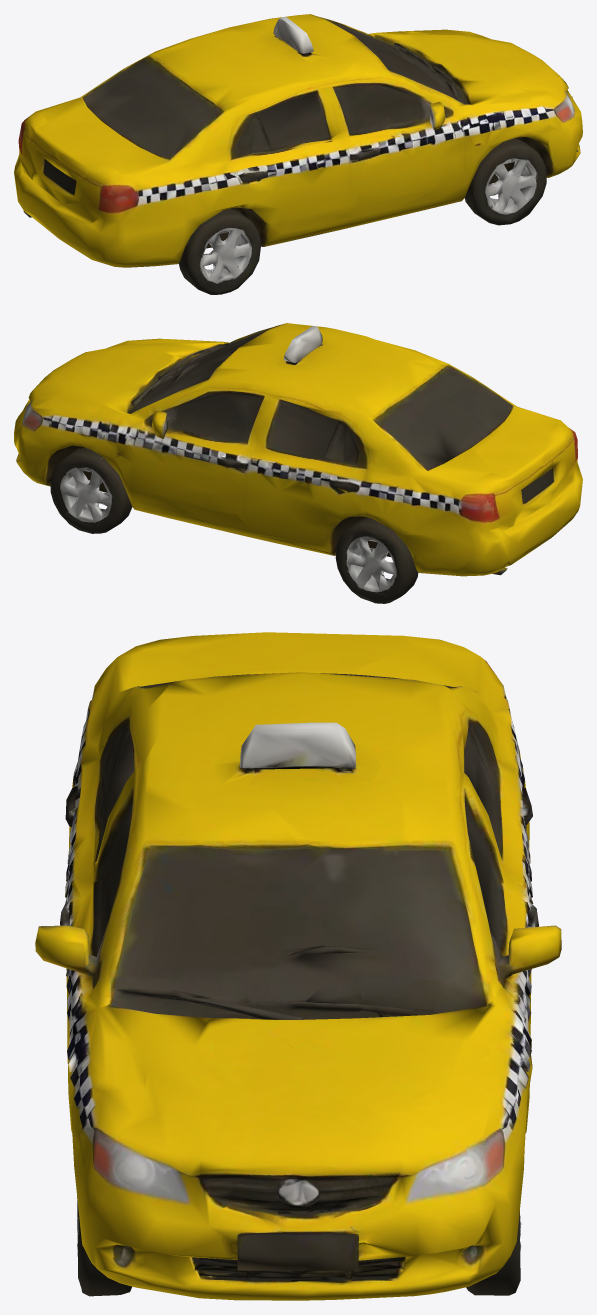
The model's file is taxi.glb.
3 renders of one model, top to bottom at view 1: azimuth 30°, elevation 25°; view 2: azimuth 150°, elevation 25°; view 3: azimuth 270°, elevation 25°, orthographic. The views are drawn at different scales.
Parts seen in each view (by area): view 1: tripo_node_08e23e32-b8ed-47ad-a201-8f80dfe8b87c; view 2: tripo_node_08e23e32-b8ed-47ad-a201-8f80dfe8b87c; view 3: tripo_node_08e23e32-b8ed-47ad-a201-8f80dfe8b87c.
Part boxes in pixels (x1,y1,x2,y2): tripo_node_08e23e32-b8ed-47ad-a201-8f80dfe8b87c: [14, 14, 582, 294]; tripo_node_08e23e32-b8ed-47ad-a201-8f80dfe8b87c: [14, 323, 582, 603]; tripo_node_08e23e32-b8ed-47ad-a201-8f80dfe8b87c: [35, 632, 561, 1300].
Size of the model in its own units: 1 by 0.3776 by 0.446.
1 material, 1 textured.
